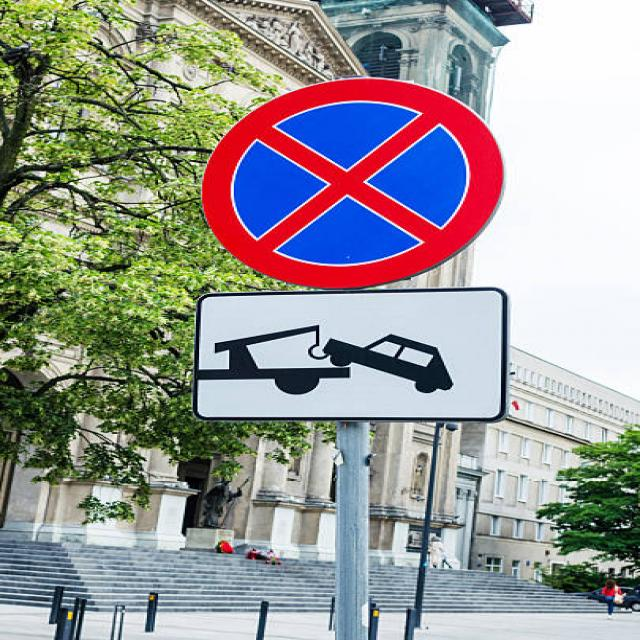no_parking: (181, 66, 519, 292)
